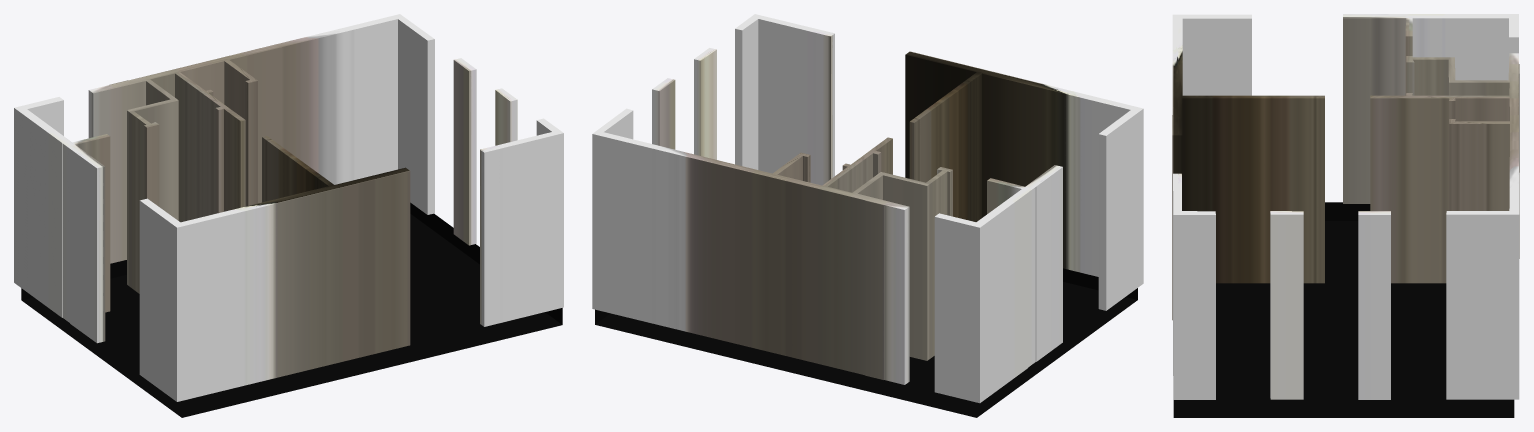
Rendered from maybefloorplan.fbx.
3 renders of one model, left to right at view 1: azimuth 30°, elevation 25°; view 2: azimuth 150°, elevation 25°; view 3: azimuth 270°, elevation 25°, orthographic. The views are drawn at different scales.
Parts seen in each view (by area): view 1: Plane, Plane_1; view 2: Plane, Plane_1; view 3: Plane, Plane_1.
Boxes of the visible parts, x1,y1,x2,y2 form: Plane: (14, 14, 563, 401); Plane_1: (21, 202, 562, 417); Plane: (592, 14, 1143, 403); Plane_1: (595, 268, 1137, 417); Plane: (1172, 14, 1519, 399); Plane_1: (1173, 202, 1514, 417).
Size of the model in its own units: 23.23 by 11.03 by 17.
2 materials, 1 textured.
